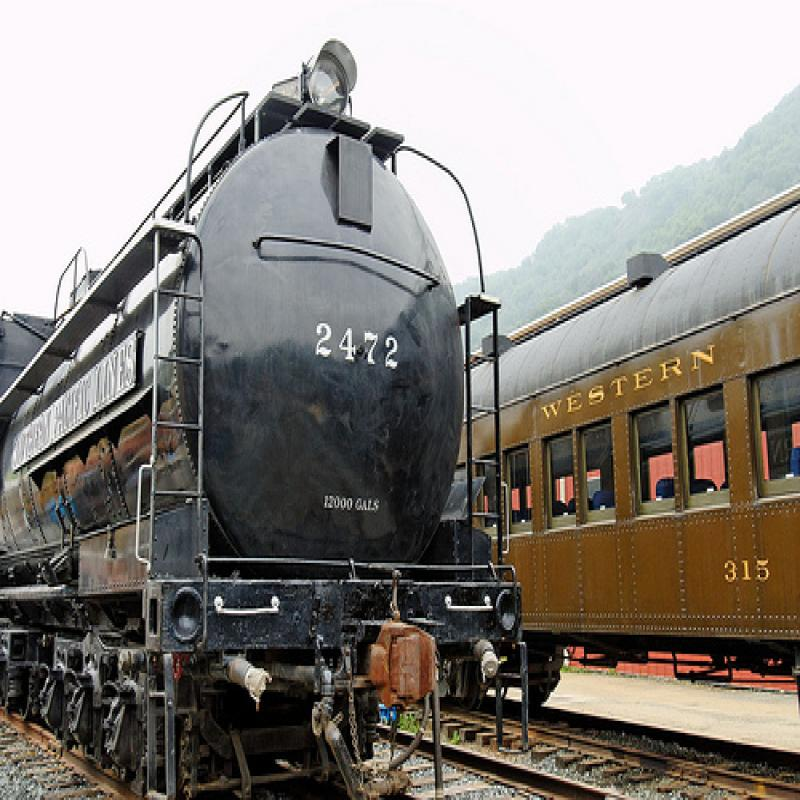train: (2, 41, 535, 800), (457, 185, 800, 715)
